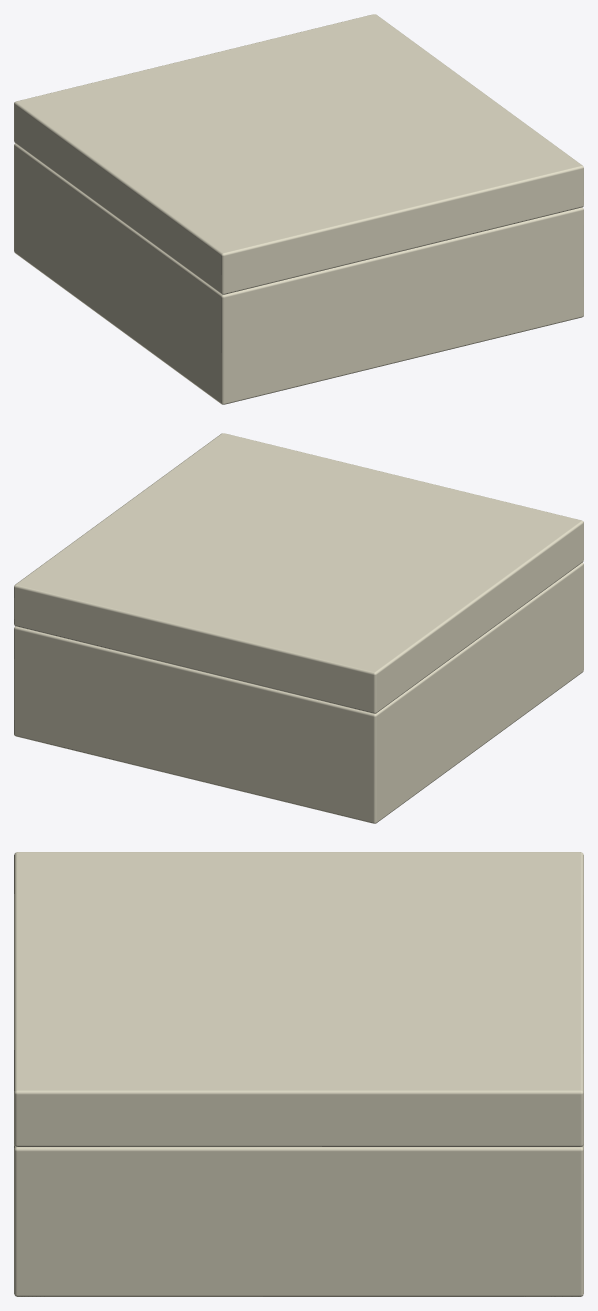
The model's file is prehistoric-survivor-settlement-communal-hearth-platfo-458145ad__23184.glb.
The picture shows the model from 3 angles, top to bottom: view 1: azimuth 30°, elevation 25°; view 2: azimuth 150°, elevation 25°; view 3: azimuth 270°, elevation 25°; orthographic projection. The views are drawn at different scales.
Parts seen in each view (by area): view 1: communal-hearth-platform; view 2: communal-hearth-platform; view 3: communal-hearth-platform.
Part boxes in pixels (x1,y1,x2,y2): communal-hearth-platform: [14, 14, 583, 404]; communal-hearth-platform: [14, 433, 583, 823]; communal-hearth-platform: [14, 852, 583, 1296].
Size of the model in its own units: 2 by 0.7999 by 2.
